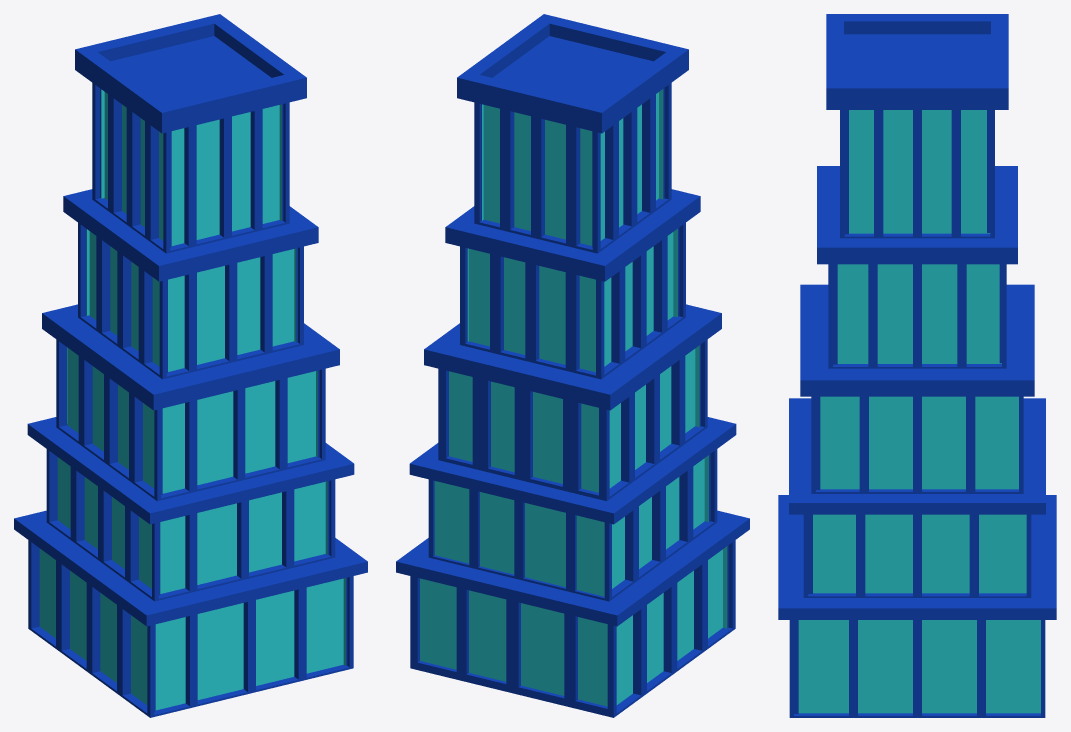
The model's file is BuildingB.obj.
3 views of the same model, side by side, from view 1: azimuth 30°, elevation 25°; view 2: azimuth 150°, elevation 25°; view 3: azimuth 270°, elevation 25° (orthographic). The views are drawn at different scales.
Visible parts, largest first — view 1: Cube.172; view 2: Cube.172; view 3: Cube.172.
Part boxes in pixels (bbox=[...]): Cube.172: bbox=[14, 14, 367, 717]; Cube.172: bbox=[396, 14, 749, 717]; Cube.172: bbox=[778, 14, 1056, 717].
Size of the model in its own units: 8.99 by 22.72 by 9.33.
